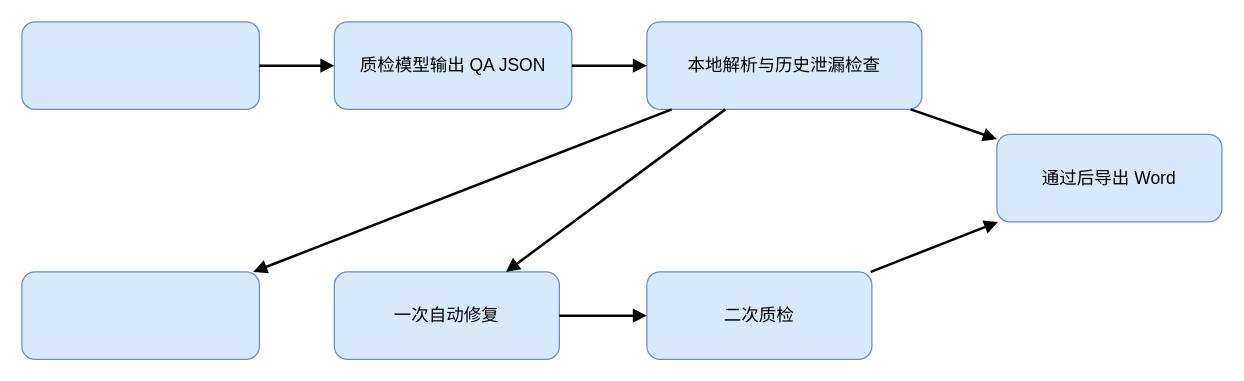
The diagram is 1244 pixels wide and 381 high, and some of its shapes have lost their labels. Here are the shapes that lost their labels. From the top down, the box of each, then its label:
(21, 21, 259, 109): 接收 ReportIR 和 Markdown
(21, 271, 259, 359): 严重问题阻断导出
